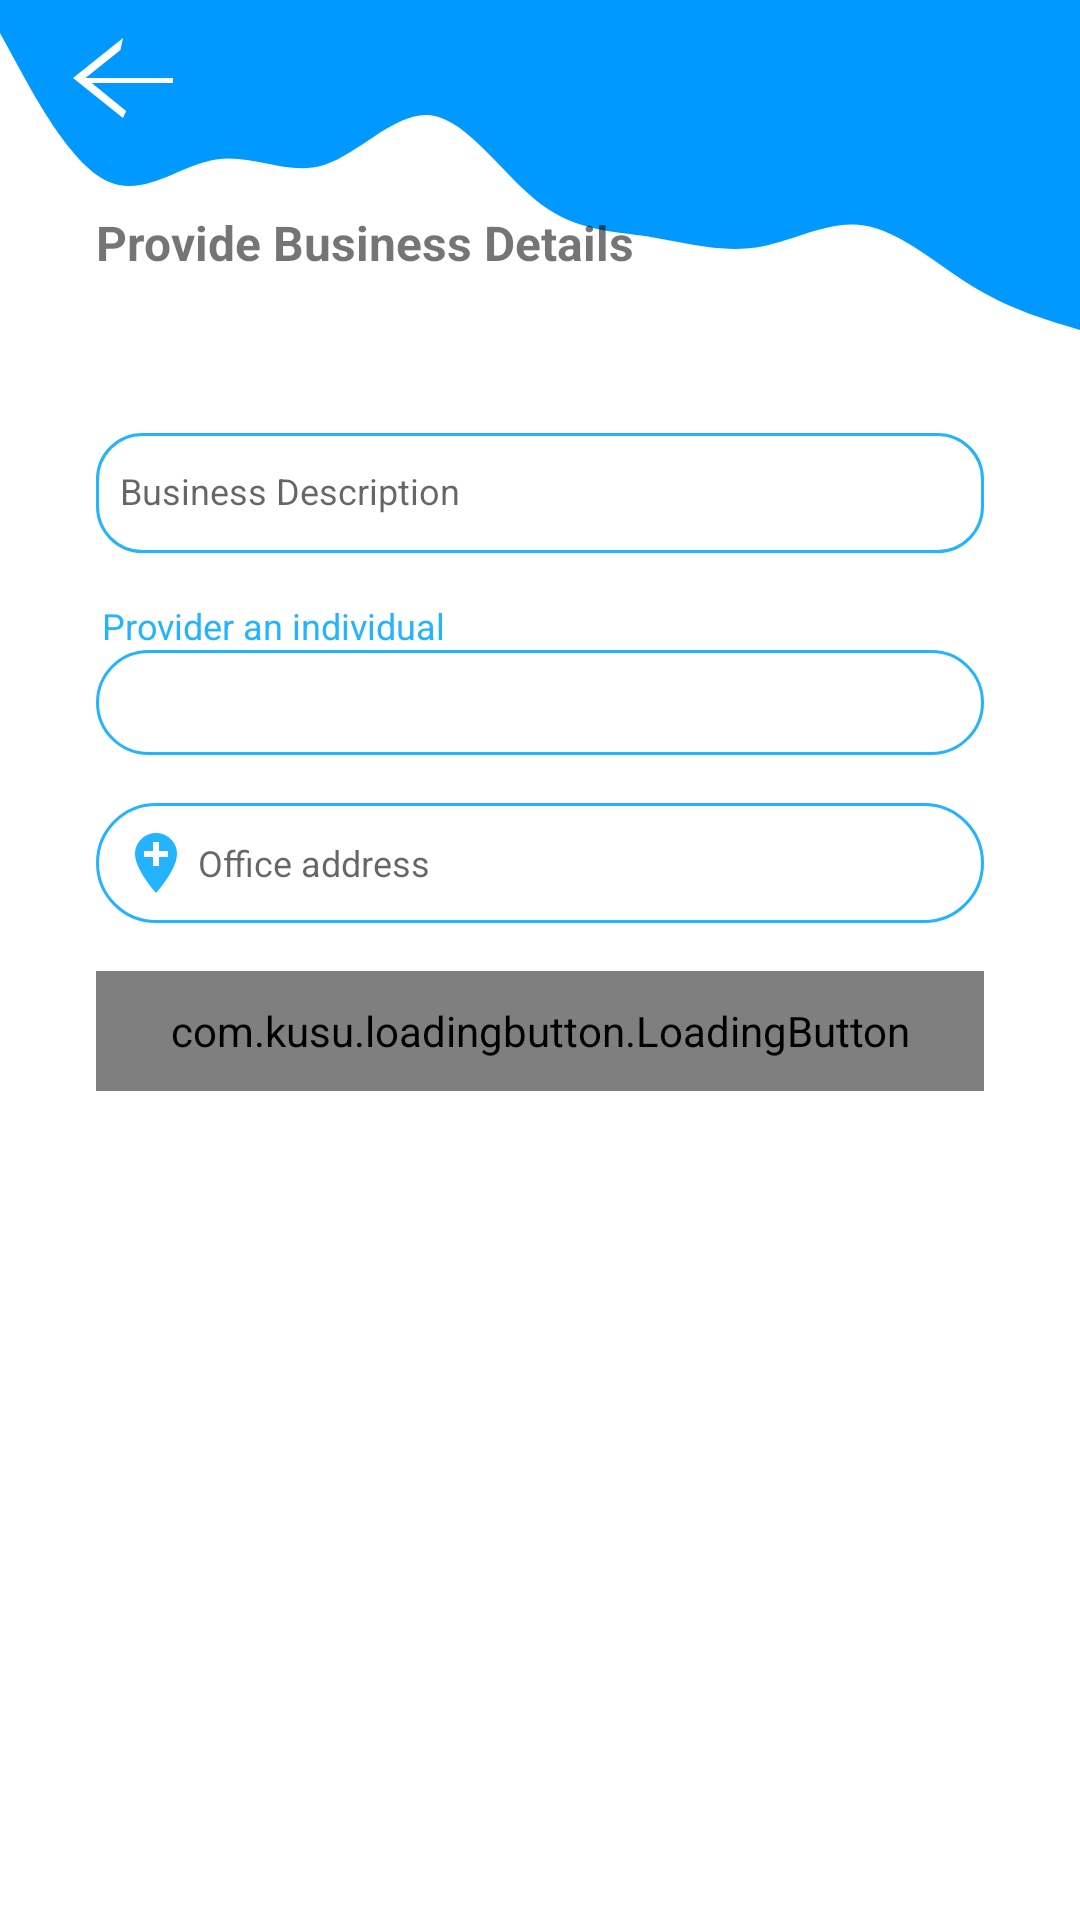

Named icons in this screenshot (1080×1920) and their centers, point (x, y):
back arrow: point (123, 78)
